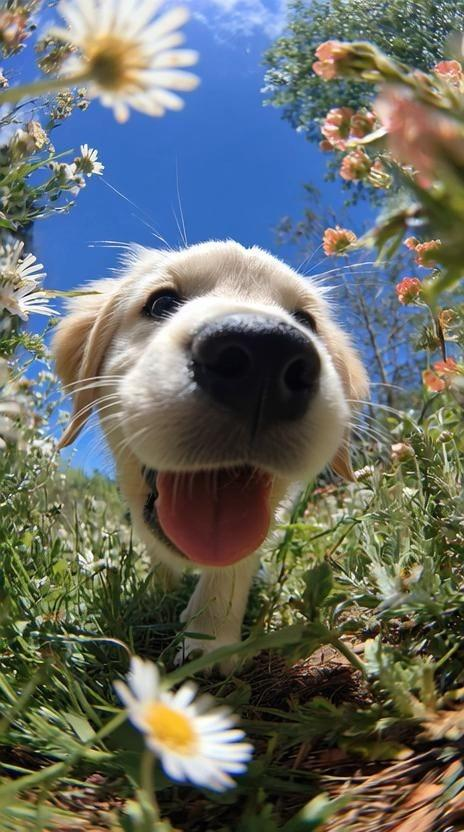puppy-dog: (45, 239, 372, 676)
